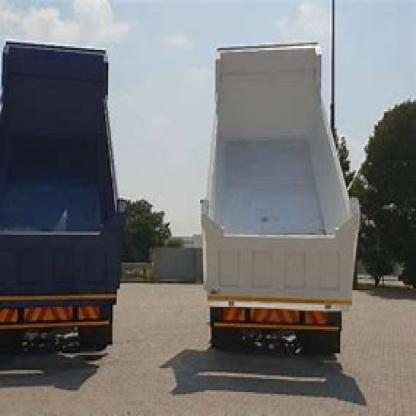dump_truck: (203, 30, 358, 353), (0, 28, 131, 357)
